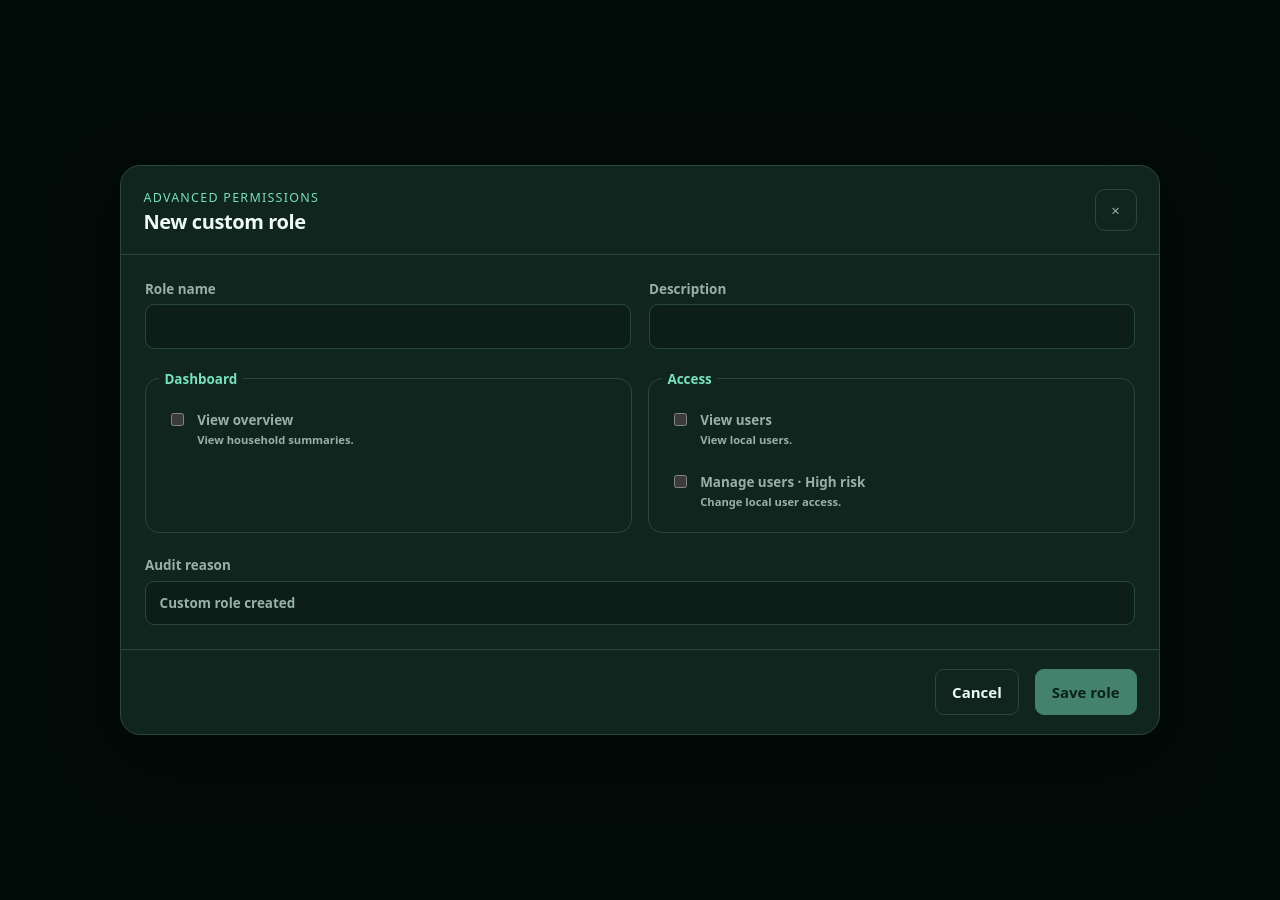
protected permission changes › opens confirmation before sending a high-risk permission save
This screenshot has width=1280, height=900.
Type "Household manager" into the field labelled "Role name" at (388, 327), box [145,304,631,349]
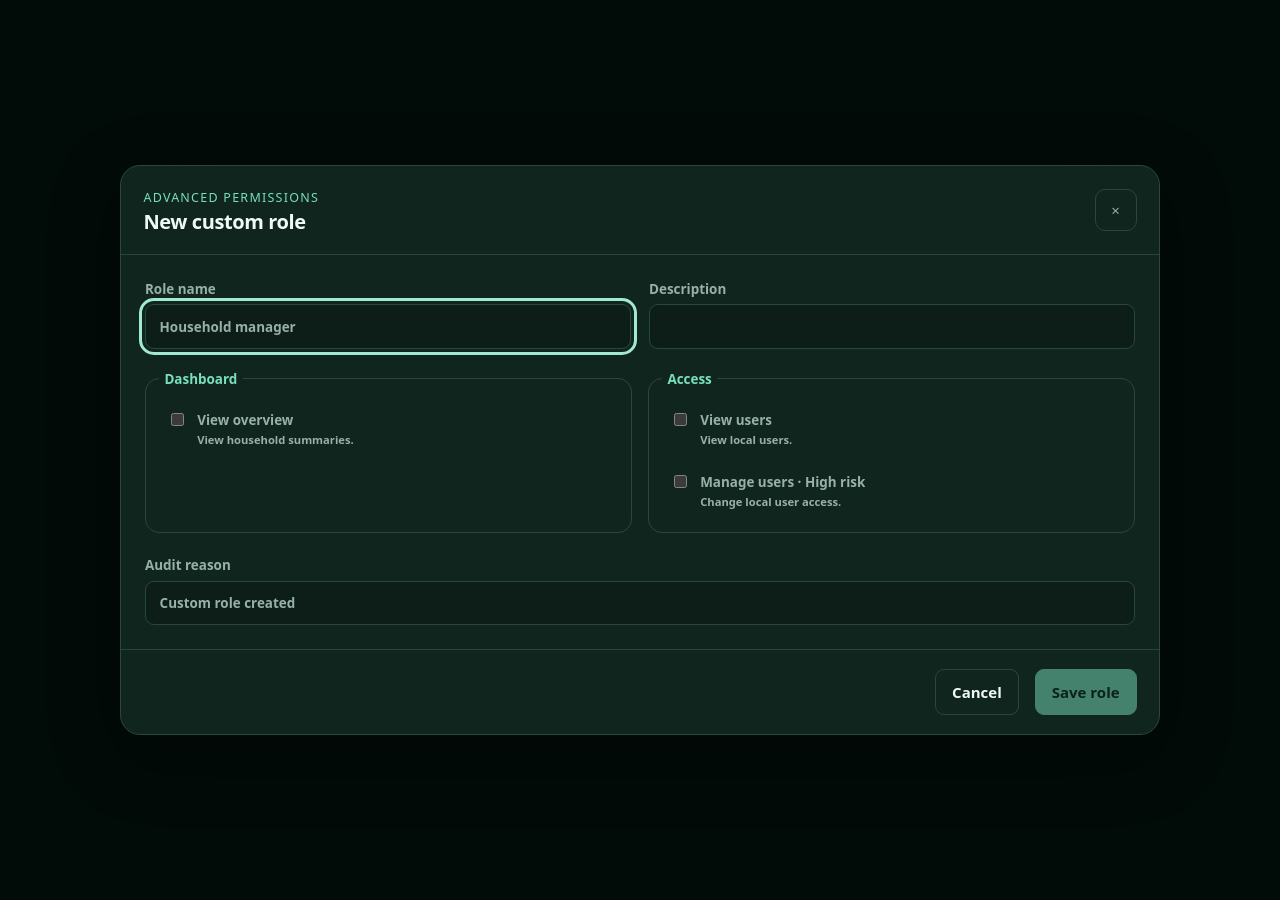
Type "Manages selected household settings" into the field labelled "Description" at (892, 327), box [649,304,1135,349]
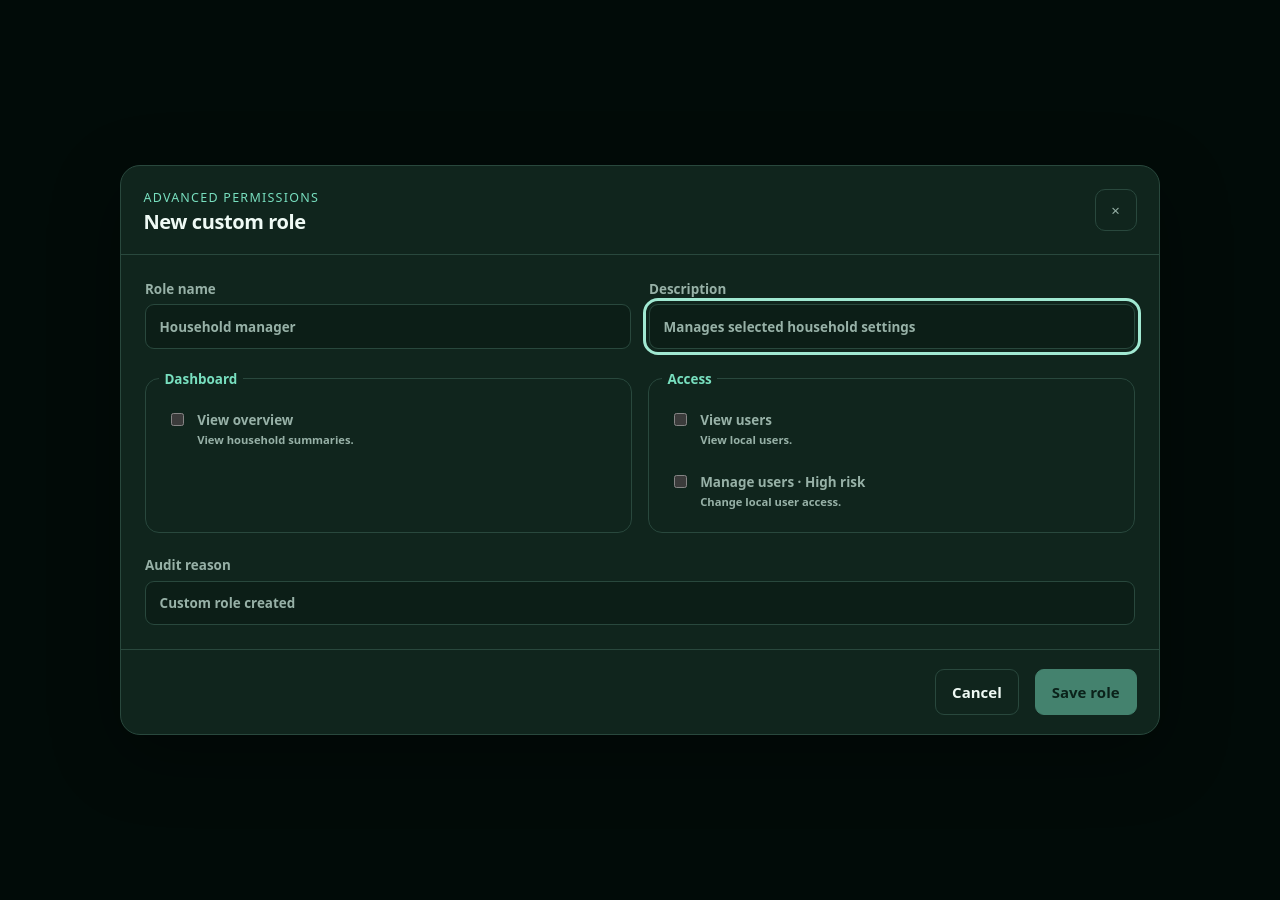
Click the checkbox labelled "Manage users · High risk Change local user access." at (680, 481), box [674,475,687,488]
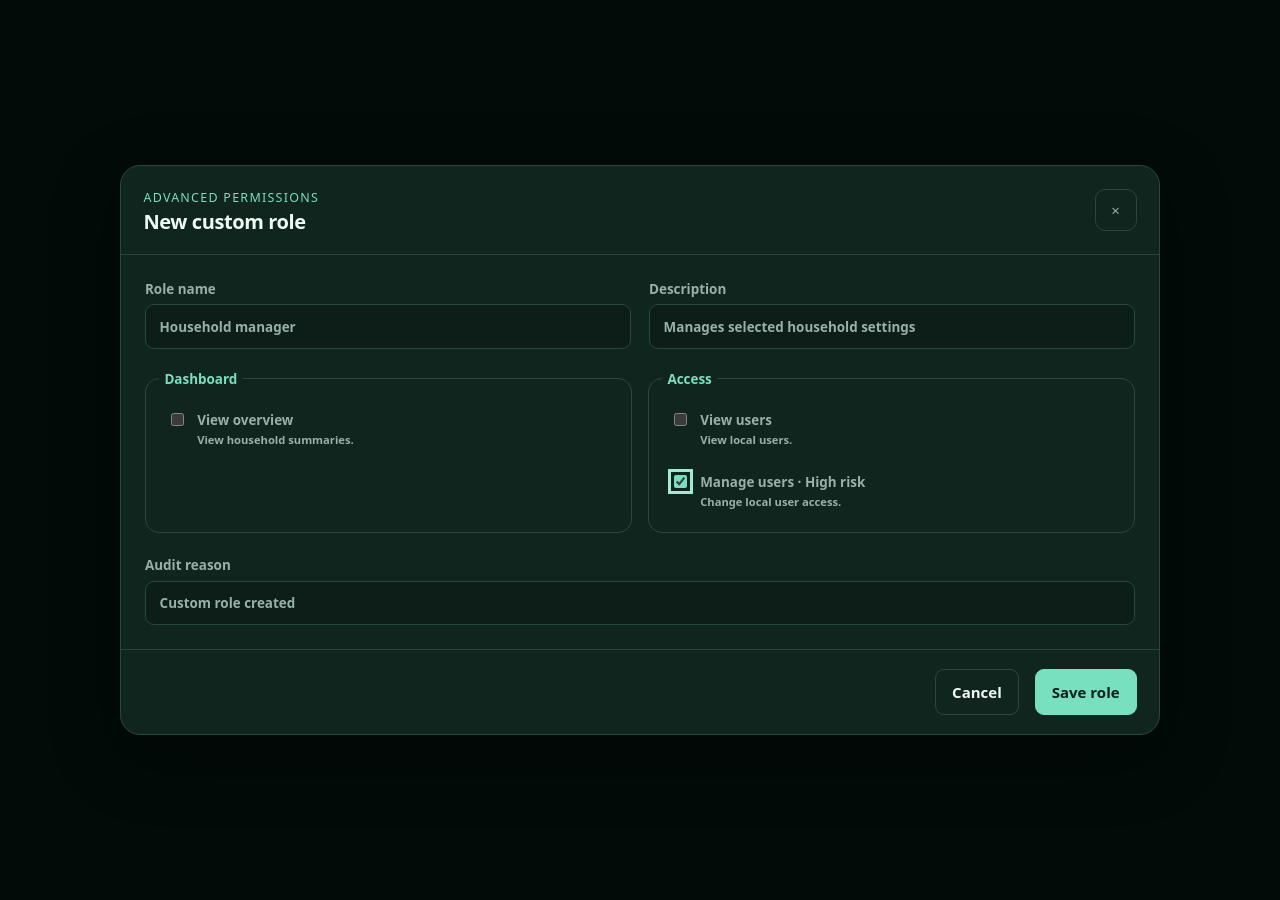
Click the button "Save role" at (1086, 692), box [1035,670,1137,715]
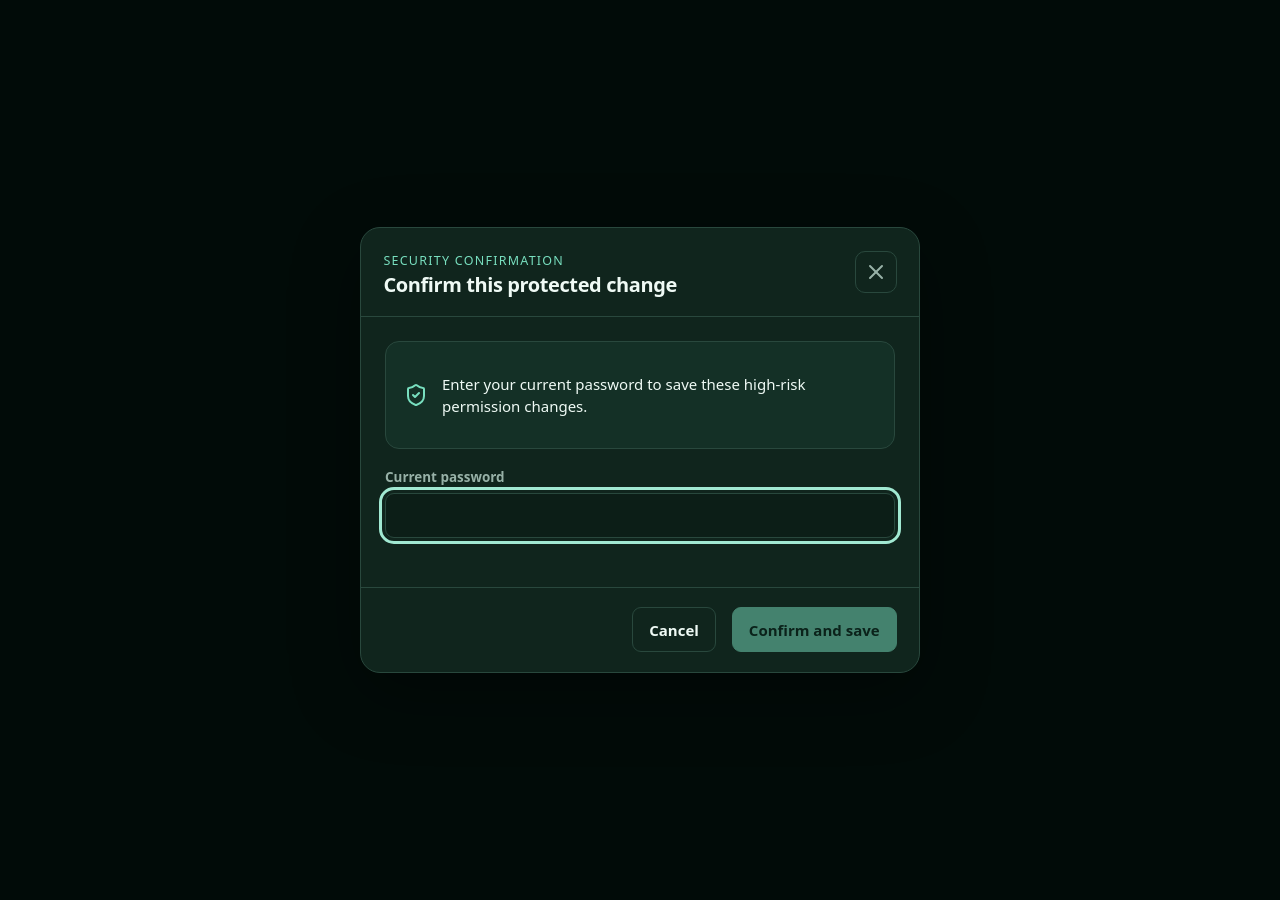
Result: the heading "Confirm this protected change" is shown at [383,273,677,297]
